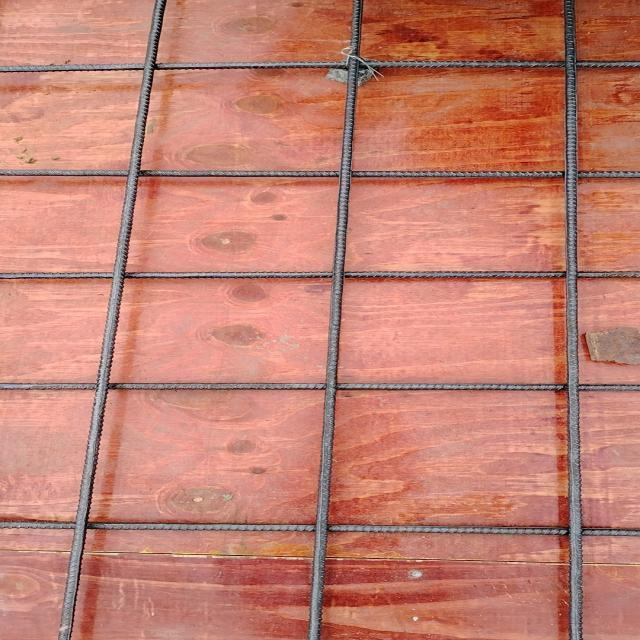ribbed bar: (53, 0, 168, 639), (303, 0, 364, 639), (561, 0, 583, 639), (0, 521, 639, 536), (0, 60, 639, 73), (0, 168, 639, 178), (0, 271, 639, 280), (0, 382, 639, 391)
